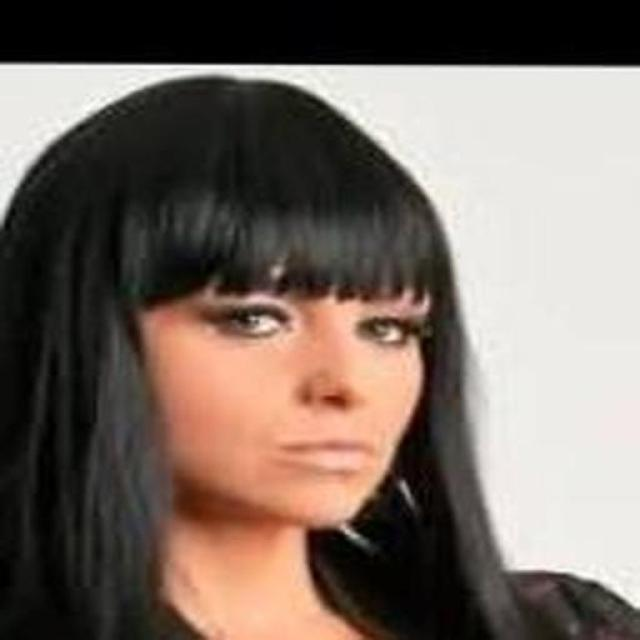bareface: (88, 126, 434, 526)
